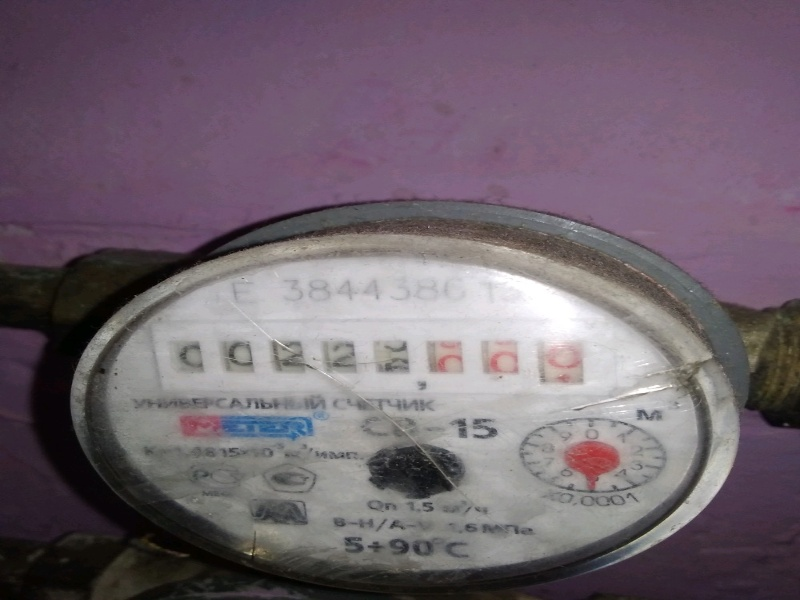dial: (155, 338, 573, 393)
